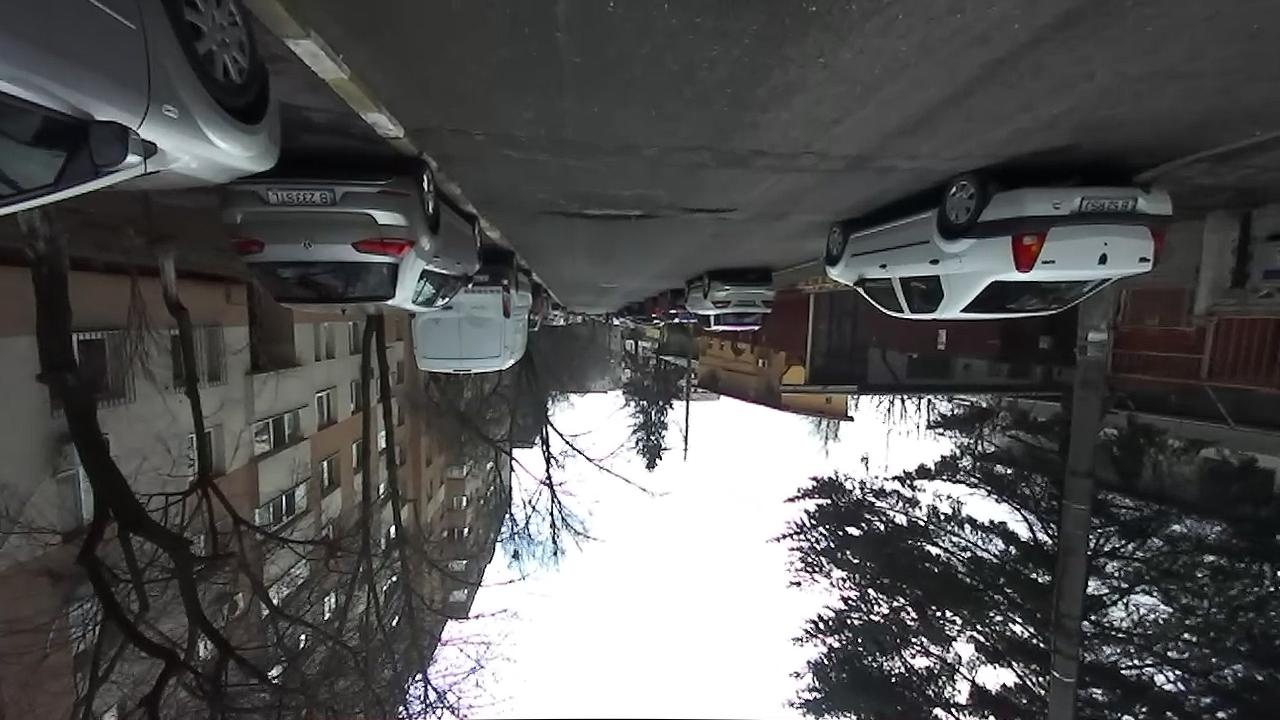pothole: (543, 200, 663, 223), (675, 204, 739, 216)
